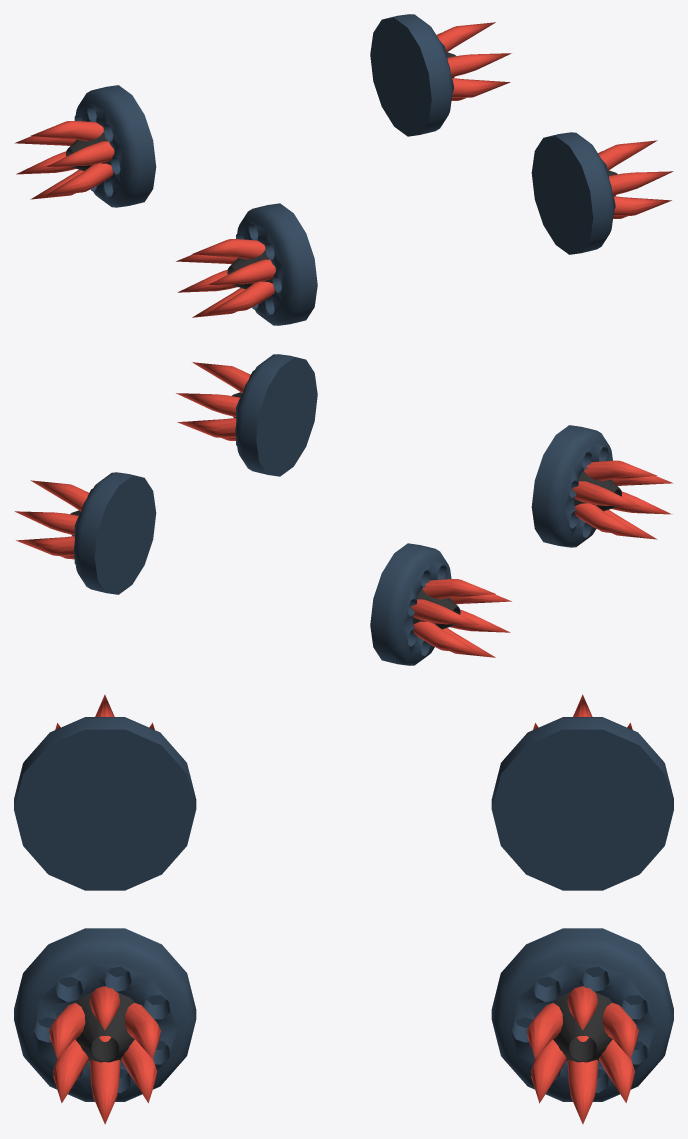
The model's file is tekertekermidir.fbx.
3 renders of one model, top to bottom at view 1: azimuth 30°, elevation 25°; view 2: azimuth 150°, elevation 25°; view 3: azimuth 270°, elevation 25°, orthographic. The views are drawn at different scales.
Visible parts, largest first — view 1: Cylinder.006, Cylinder.003, Cylinder.004, Cylinder.005; view 2: Cylinder.006, Cylinder.003, Cylinder.004, Cylinder.005; view 3: Cylinder.004, Cylinder.005, Cylinder.003, Cylinder.006.
Part boxes in pixels (left/top/right/bottom): Cylinder.006: left=176, top=203, right=317, bottom=325; Cylinder.003: left=14, top=85, right=156, bottom=207; Cylinder.004: left=370, top=14, right=511, bottom=136; Cylinder.005: left=531, top=132, right=673, bottom=254; Cylinder.006: left=531, top=425, right=673, bottom=547; Cylinder.003: left=370, top=543, right=511, bottom=665; Cylinder.004: left=14, top=472, right=156, bottom=594; Cylinder.005: left=176, top=354, right=317, bottom=476; Cylinder.004: left=491, top=928, right=673, bottom=1124; Cylinder.005: left=14, top=928, right=196, bottom=1124; Cylinder.003: left=491, top=694, right=673, bottom=890; Cylinder.006: left=14, top=694, right=196, bottom=890.
Bounding box in the file's own units: 5.04 × 1.12 × 4.17.
1 material, 1 textured.
